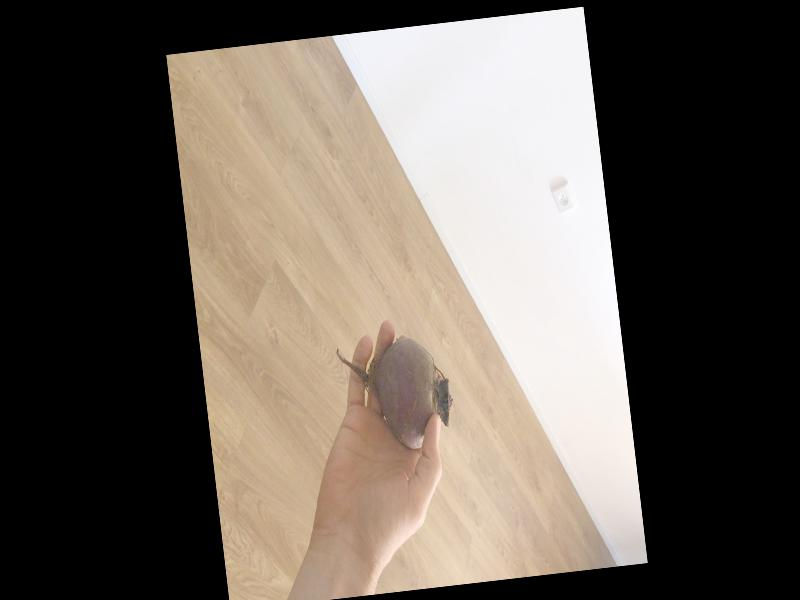Beet: (335, 331, 455, 456)
